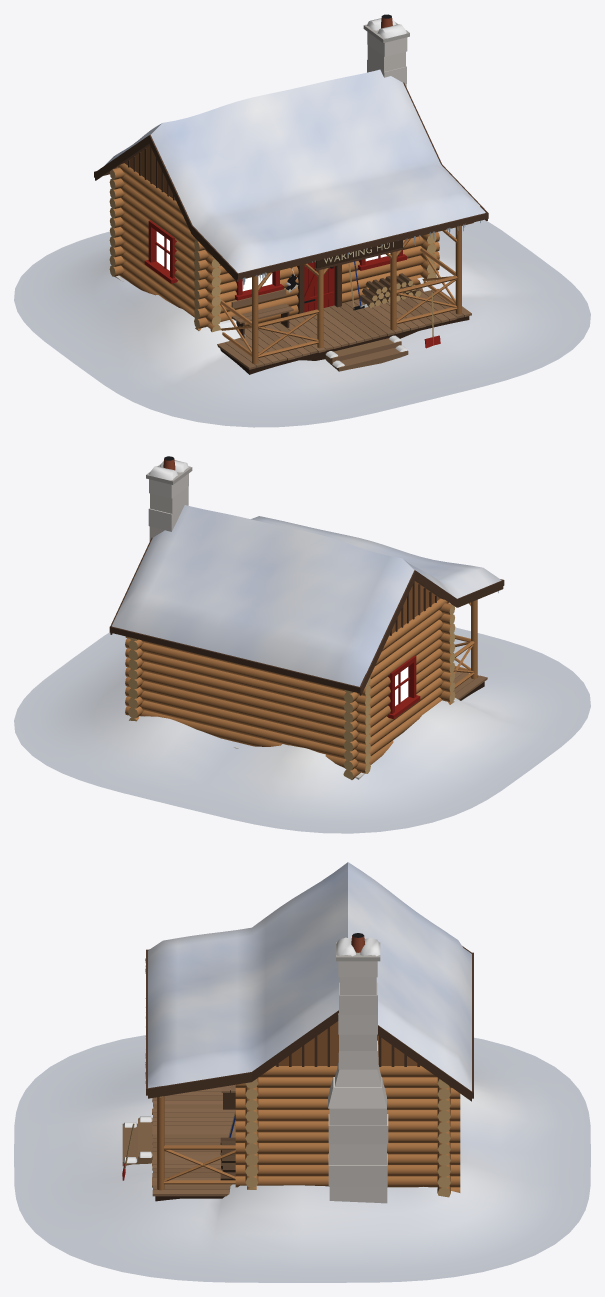
The model's file is hut.glb.
3 renders of one model, top to bottom at view 1: azimuth 30°, elevation 25°; view 2: azimuth 150°, elevation 25°; view 3: azimuth 270°, elevation 25°, orthographic. The views are drawn at different scales.
Parts seen in each view (by area): view 1: hut; view 2: hut; view 3: hut.
Boxes of the visible parts, x1,y1,x2,y2 form: hut: (14,14,590,427); hut: (14,456,590,833); hut: (14,862,590,1282).
Bounding box in the file's own units: 11.9 × 6.45 × 11.4.
